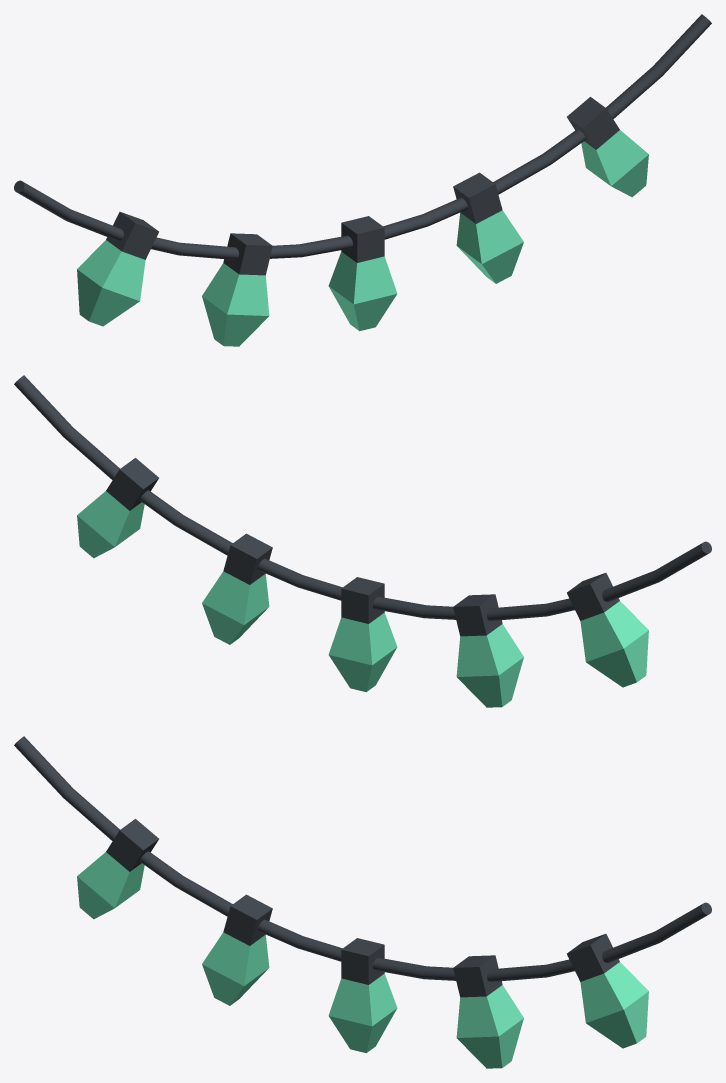
File: lightsGreen.obj
3 renders of one model, top to bottom at view 1: azimuth 30°, elevation 25°; view 2: azimuth 150°, elevation 25°; view 3: azimuth 330°, elevation 25°, orthographic.
Parts seen in each view (by area): view 1: lightsGreen; view 2: lightsGreen; view 3: lightsGreen.
Part boxes in pixels (x1,y1,x2,y2): lightsGreen: [14, 14, 711, 346]; lightsGreen: [14, 375, 711, 707]; lightsGreen: [14, 736, 711, 1068].
Size of the model in its own units: 1.01 by 0.3162 by 0.0636.
